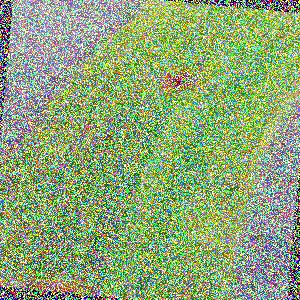Bacterial_Leaf_Blight: (151, 63, 202, 96), (84, 120, 100, 134), (53, 171, 69, 182), (90, 275, 103, 285), (80, 108, 94, 116)
